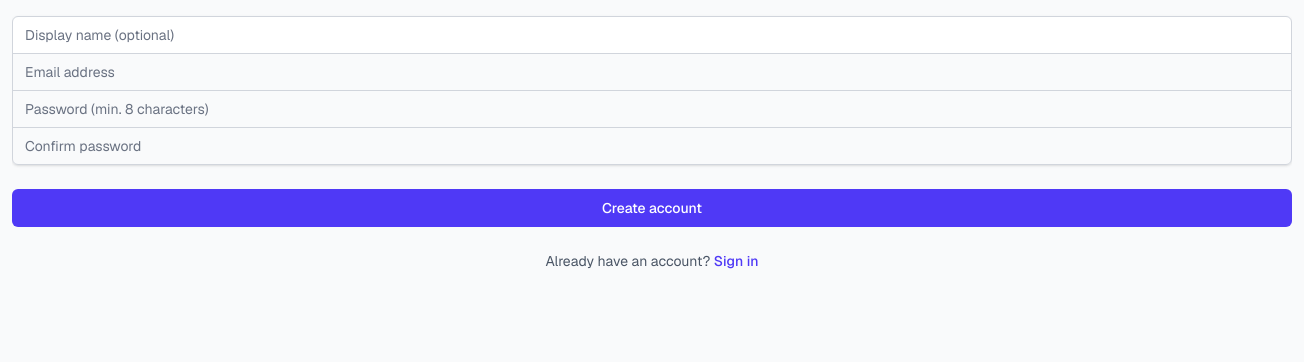
Scenario: RegisterForm › shows error when passwords do not match
Type "test@example.com" into the field with placeholder "Email address" at (652, 72), box left=12, top=53, right=1292, bottom=91
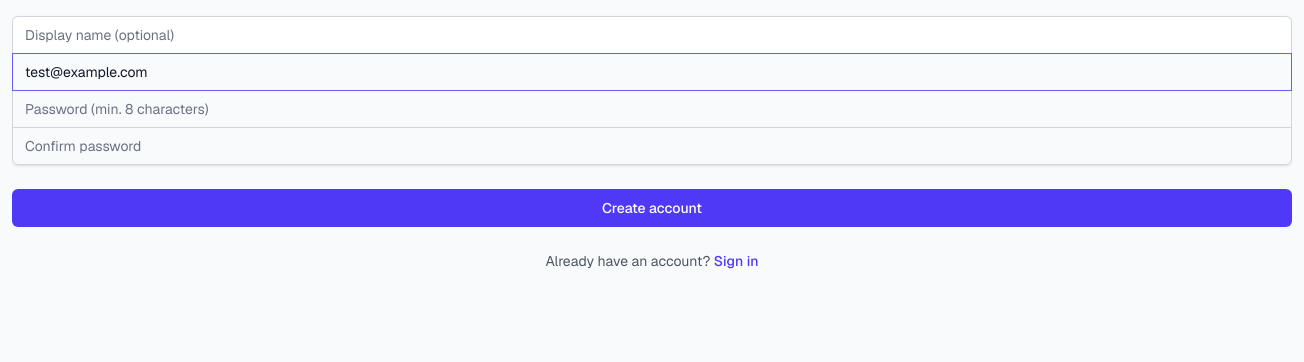
Type "password123" into the password field with placeholder "Password (min. 8 characters)" at (652, 109), box left=12, top=90, right=1292, bottom=128
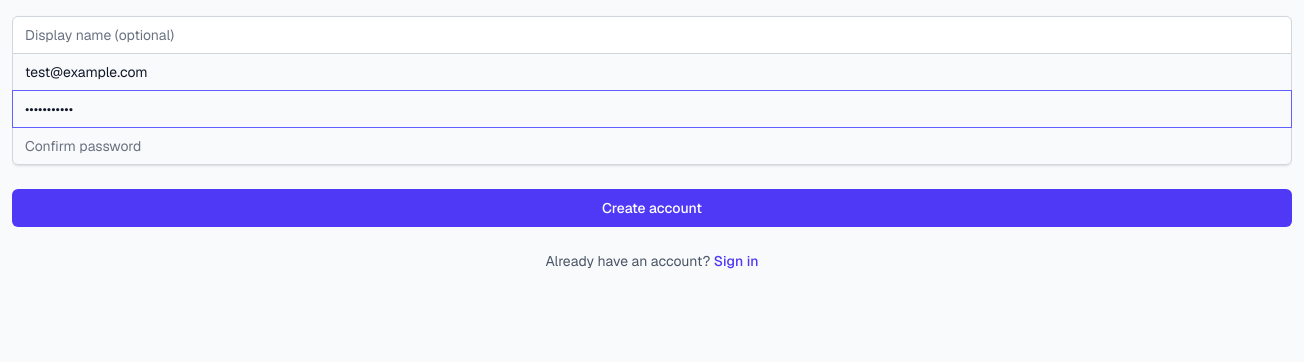
Type "password456" into the password field with placeholder "Confirm password" at (652, 146), box left=12, top=127, right=1292, bottom=165
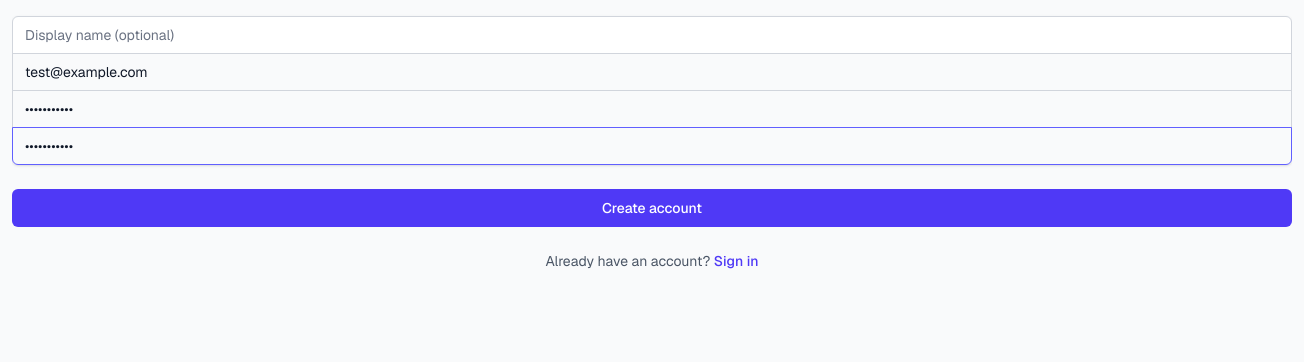
Click the button "Create account" at (652, 208), box left=12, top=189, right=1292, bottom=227
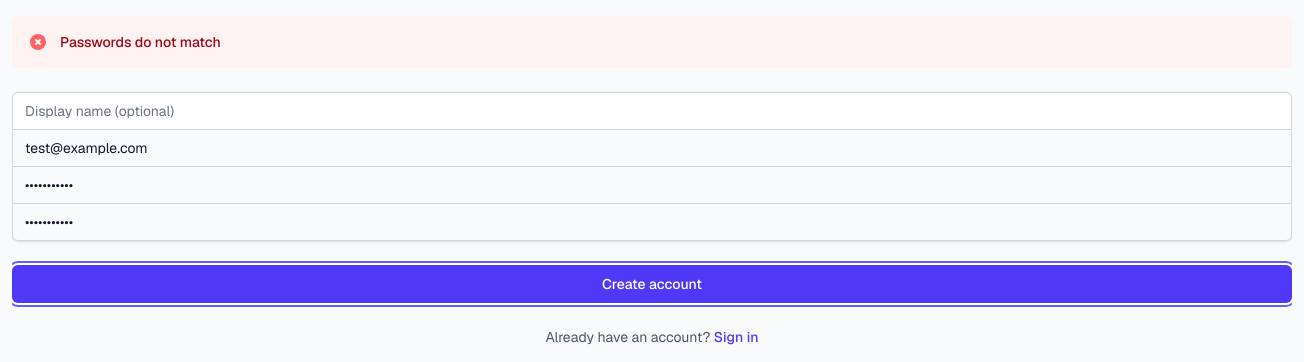
Check: the text "Passwords do not match" is shown, box left=60, top=32, right=221, bottom=52
